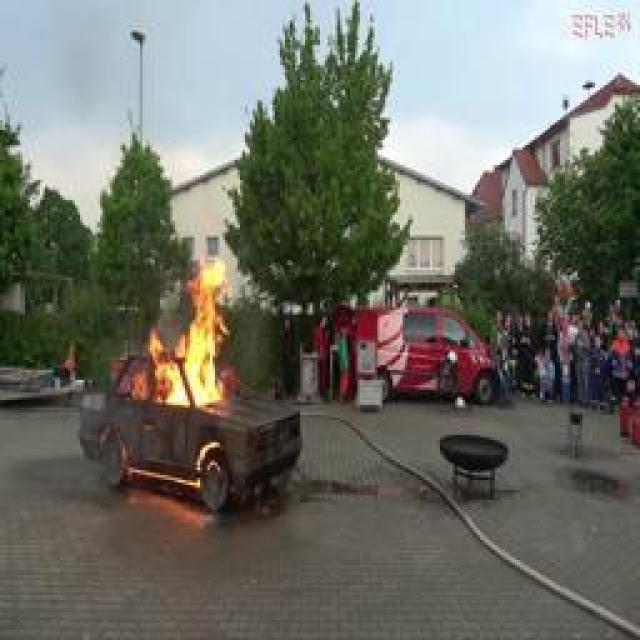Fire: (319, 296, 496, 416), (123, 259, 239, 409)
